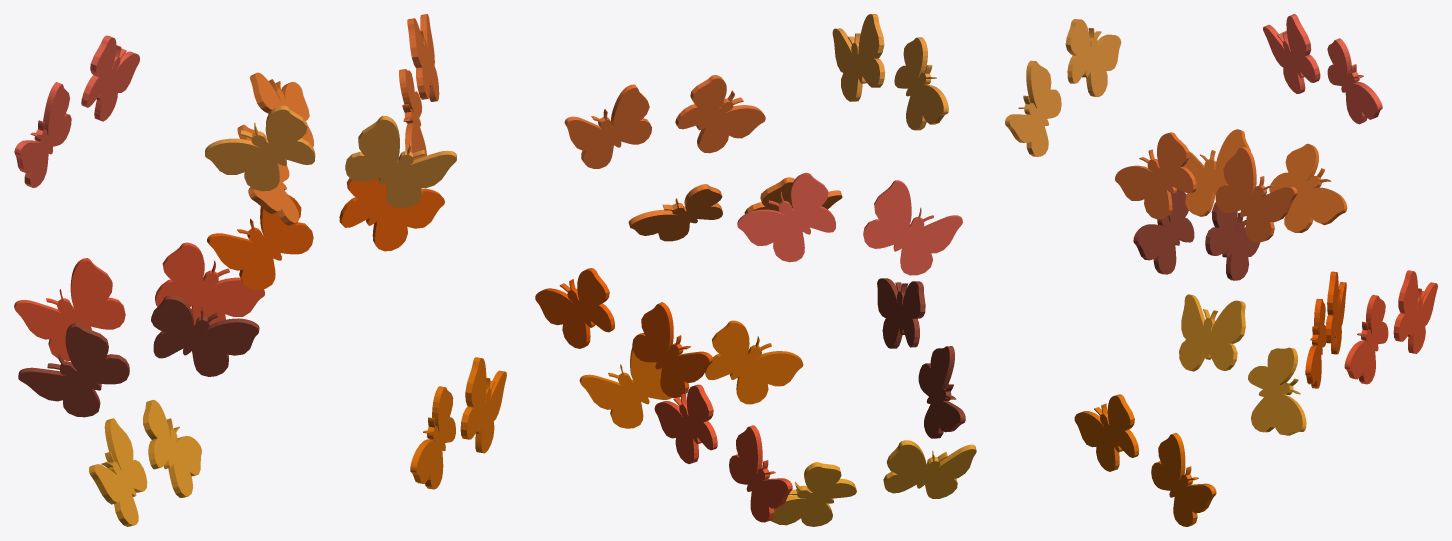
The model's file is mariposa.glb.
3 views of the same model, side by side, from view 1: azimuth 30°, elevation 25°; view 2: azimuth 150°, elevation 25°; view 3: azimuth 270°, elevation 25° (orthographic). The views are drawn at different scales.
Visible parts, largest first — view 1: mariposas.svg.007, mariposas.svg.001, mariposas.svg, mariposas.svg.003, mariposas.svg.004, mariposas.svg.005, mariposas.svg.006, mariposas.svg.002, mariposas.svg.008; view 2: mariposas.svg.005, mariposas.svg.006, mariposas.svg.002, mariposas.svg.003, mariposas.svg.004, mariposas.svg, mariposas.svg.001, mariposas.svg.007, mariposas.svg.008; view 3: mariposas.svg.002, mariposas.svg.004, mariposas.svg.006, mariposas.svg.008, mariposas.svg.001, mariposas.svg.007, mariposas.svg.005, mariposas.svg, mariposas.svg.003.
Part boxes in pixels (x1,y1,x2,y2): mariposas.svg.007: (18, 295, 259, 417); mariposas.svg.001: (205, 105, 456, 207); mariposas.svg: (14, 242, 264, 360); mariposas.svg.003: (207, 178, 444, 289); mariposas.svg.004: (89, 399, 201, 526); mariposas.svg.005: (14, 35, 139, 187); mariposas.svg.006: (410, 357, 506, 489); mariposas.svg.002: (399, 14, 439, 159); mariposas.svg.008: (237, 72, 313, 225); mariposas.svg.005: (737, 172, 962, 275); mariposas.svg.006: (579, 320, 803, 428); mariposas.svg.002: (564, 75, 765, 168); mariposas.svg.003: (535, 268, 712, 397); mariposas.svg.004: (770, 440, 976, 526); mariposas.svg: (654, 384, 792, 522); mariposas.svg.001: (832, 14, 948, 130); mariposas.svg.007: (877, 278, 965, 438); mariposas.svg.008: (628, 177, 842, 241); mariposas.svg.002: (1115, 132, 1297, 242); mariposas.svg.004: (1179, 294, 1306, 435); mariposas.svg.006: (1074, 394, 1216, 526); mariposas.svg.008: (1183, 129, 1347, 232); mariposas.svg.001: (1005, 19, 1121, 156); mariposas.svg.007: (1133, 188, 1260, 280); mariposas.svg.005: (1263, 14, 1382, 124); mariposas.svg: (1344, 270, 1437, 384); mariposas.svg.003: (1305, 271, 1346, 388).
Size of the model in its own units: 3.14 by 3.06 by 2.94.
